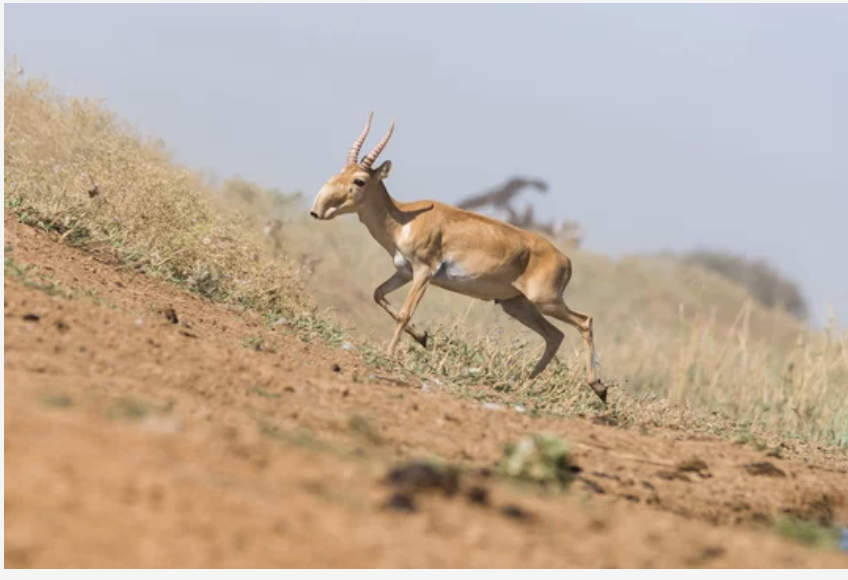saiga: (302, 104, 628, 413)
